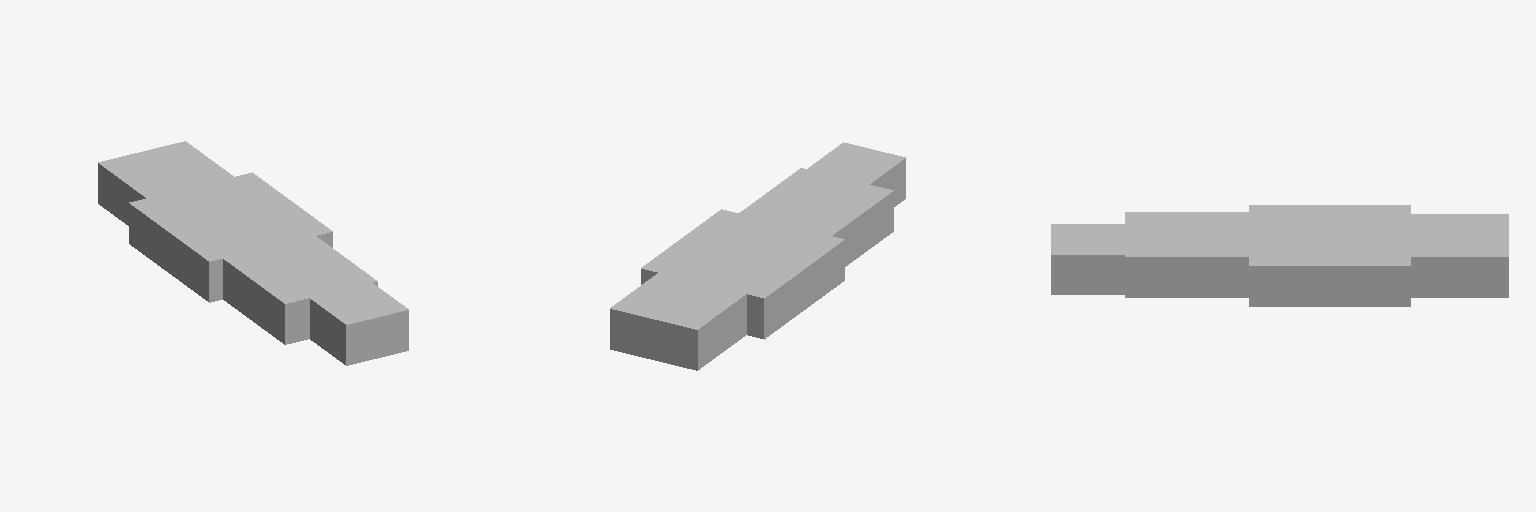
The model's file is CloudV6.obj.
The picture shows the model from 3 angles: view 1: azimuth 30°, elevation 25°; view 2: azimuth 150°, elevation 25°; view 3: azimuth 270°, elevation 25°; orthographic projection.
Visible parts, largest first — view 1: pCube6; view 2: pCube6; view 3: pCube6.
Boxes of the visible parts, <box> form: pCube6: <box>98,141,408,365</box>; pCube6: <box>610,142,905,370</box>; pCube6: <box>1051,205,1508,306</box>.
Size of the model in its own units: 1.58 by 0.5 by 5.07.